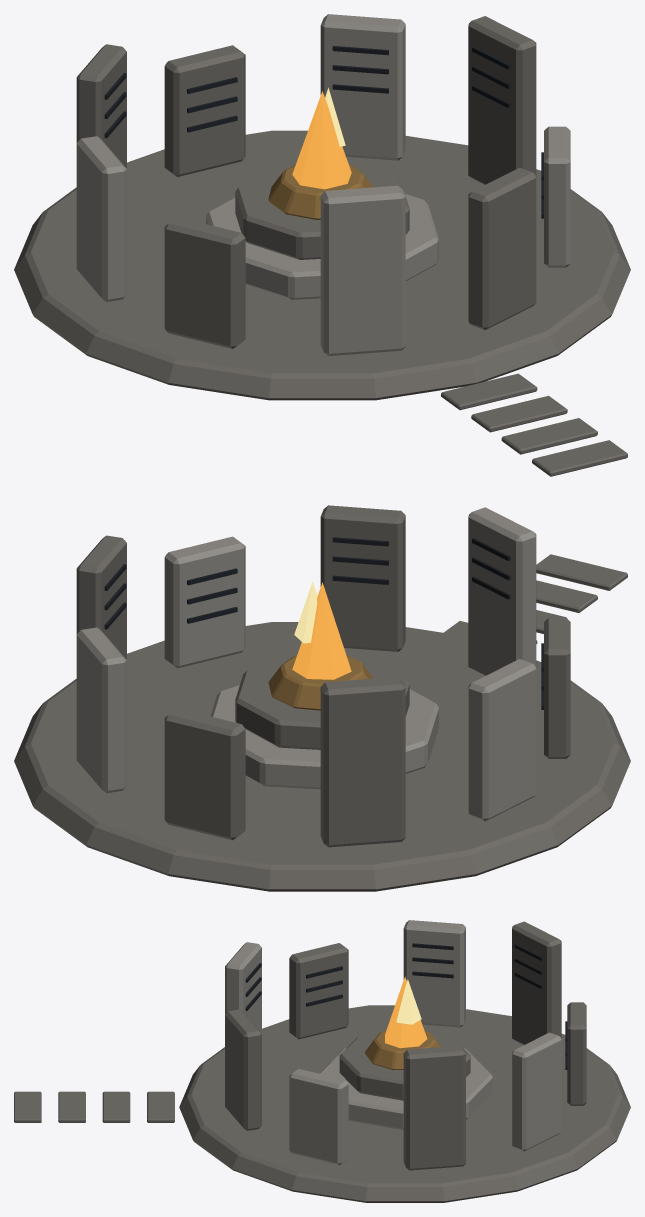
Rendered from exo-memorial.glb.
3 views of the same model, one above another, from view 1: azimuth 30°, elevation 25°; view 2: azimuth 150°, elevation 25°; view 3: azimuth 270°, elevation 25° (orthographic). The views are drawn at different scales.
Visible parts, largest first — view 1: body, charge; view 2: body, charge; view 3: body, charge.
Boxes of the visible parts, x1=… form: body: x1=14, y1=14, x2=630, y2=476; charge: x1=292, y1=87, x2=351, y2=189; body: x1=14, y1=505, x2=630, y2=891; charge: x1=292, y1=582, x2=351, y2=679; body: x1=14, y1=920, x2=630, y2=1202; charge: x1=385, y1=976, x2=427, y2=1048.
Bounding box in the file's own units: 8.02 × 2.65 × 11.12.
